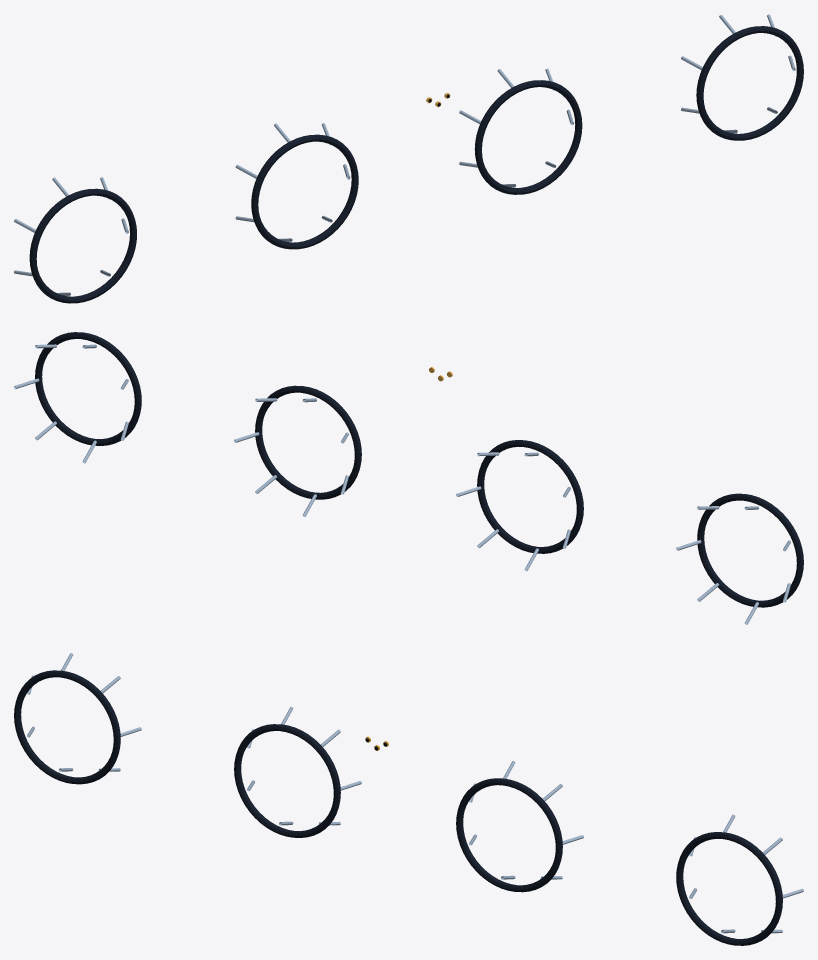
Rendered from 32_L91_DetectorSunshadeArray.fbx.
The picture shows the model from 3 angles, top to bottom: view 1: azimuth 30°, elevation 25°; view 2: azimuth 150°, elevation 25°; view 3: azimuth 330°, elevation 25°; orthographic projection.
Parts seen in each view (by area): view 1: L91_DetectorSunshadeArray; view 2: L91_DetectorSunshadeArray; view 3: L91_DetectorSunshadeArray.
Boxes of the visible parts, left/top/right/bottom form: L91_DetectorSunshadeArray: left=14, top=14, right=803, bottom=303; L91_DetectorSunshadeArray: left=14, top=332, right=803, bottom=624; L91_DetectorSunshadeArray: left=14, top=653, right=803, bottom=945.
Size of the model in its own units: 1985 by 353 by 176.
